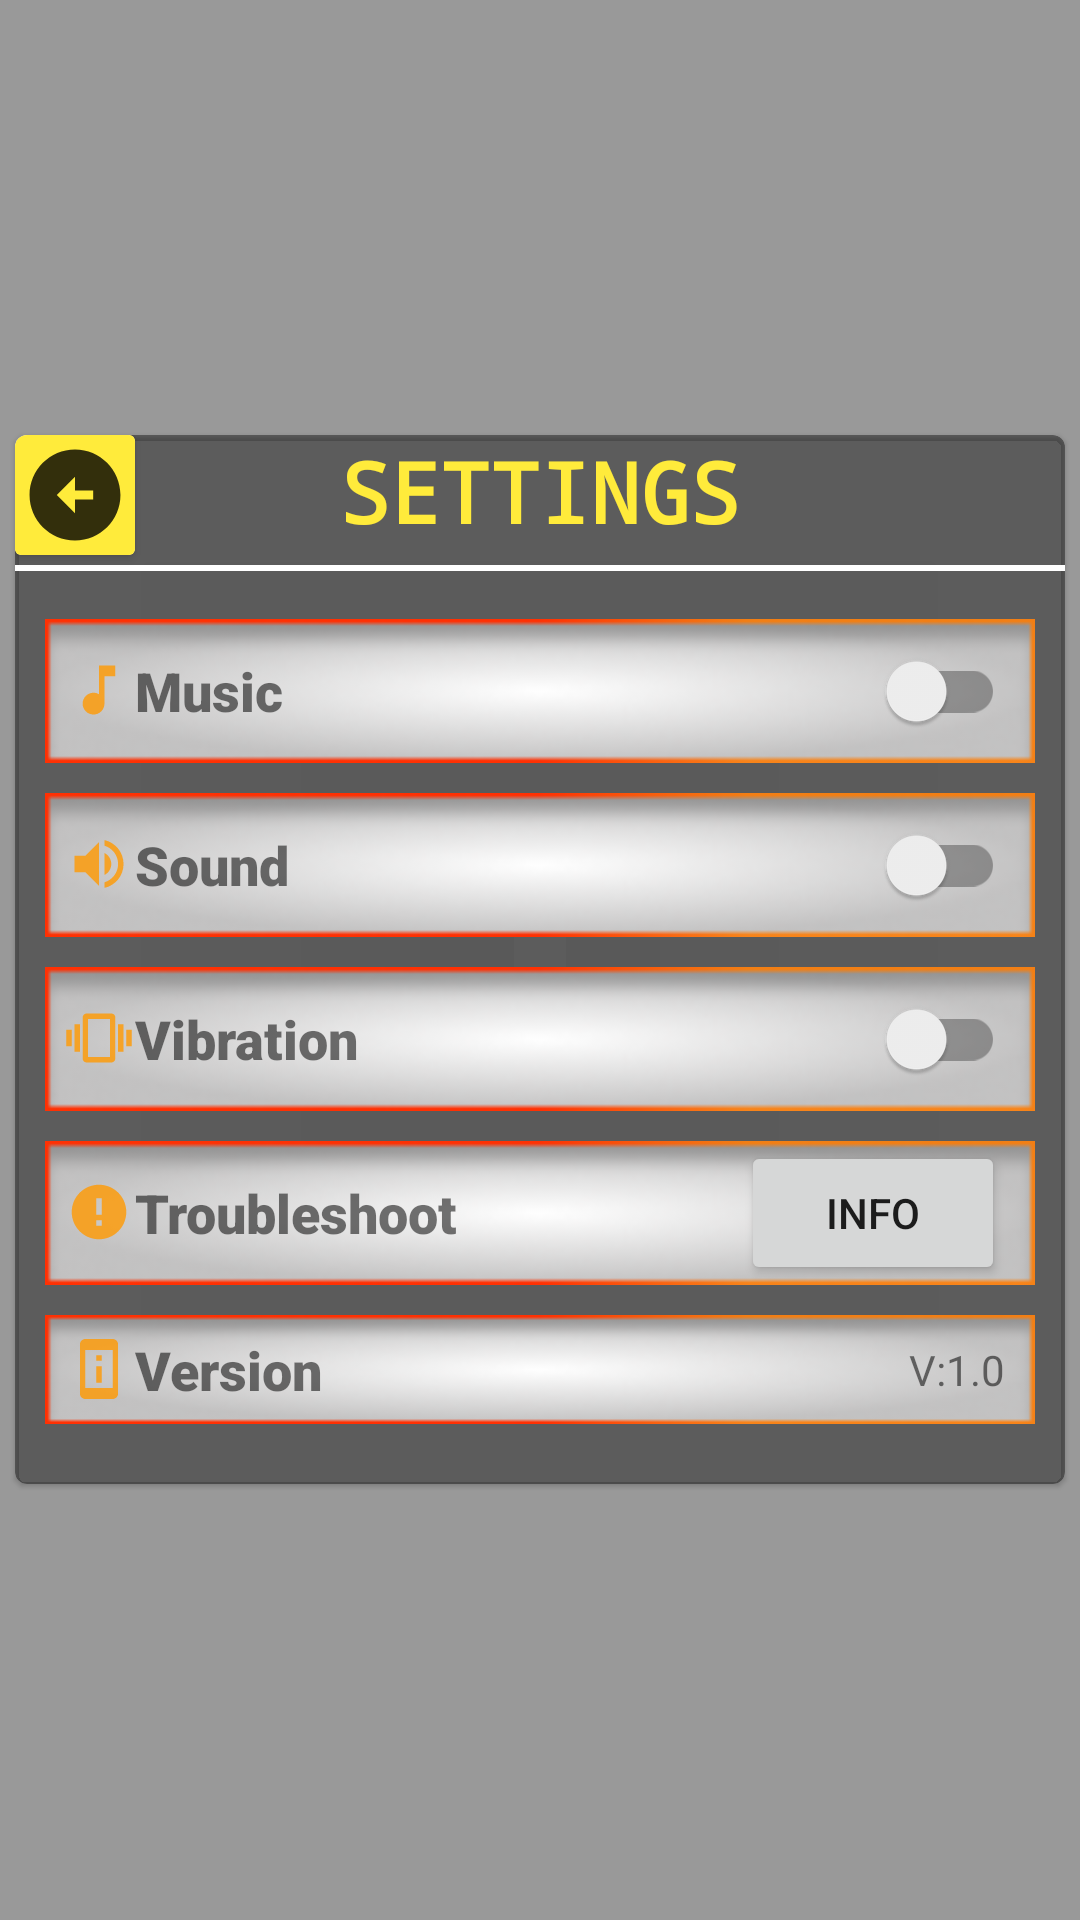

Icon click points for this 1080px x 1920px phone screenshot, format (x=x, y=y):
back arrow: (x=75, y=495)
